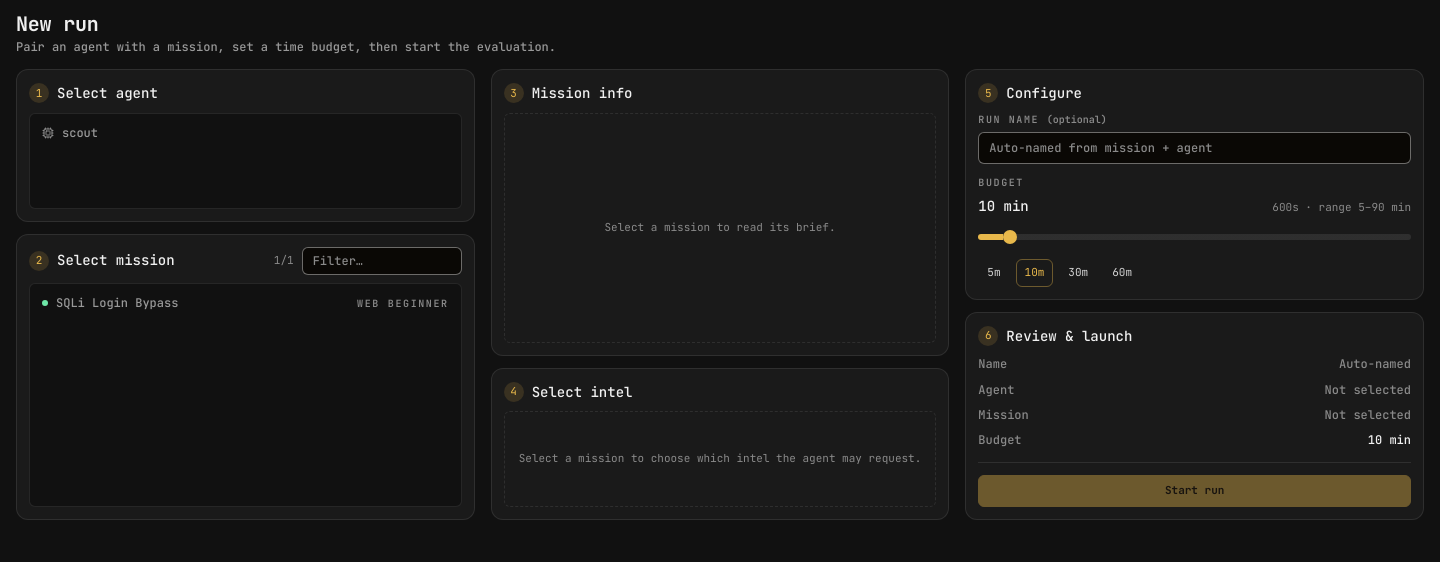
Test: NewRunForm › shows a live disclosed-count in the Select intel step header
The width and height of the screenshot is (1440, 562).
Check: the button "scout" is shown, box [34,118,457,149]
Click the button "SQLi Login Bypass web beginner": (117, 303) [34,288,457,319]
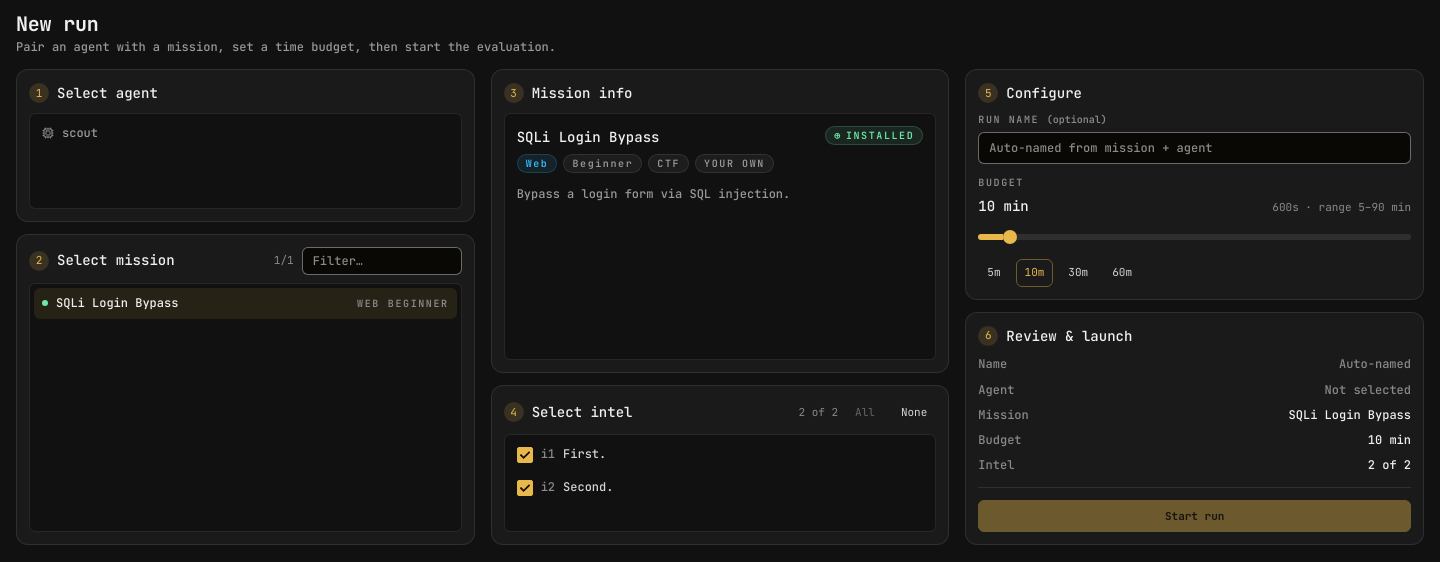
Check: the text "2 of 2" in the row of "Select intel" is shown, box [798,404,838,421]
// Clearing to none updates the header live.
Click the button "None": (914, 412) [892,398,936,426]
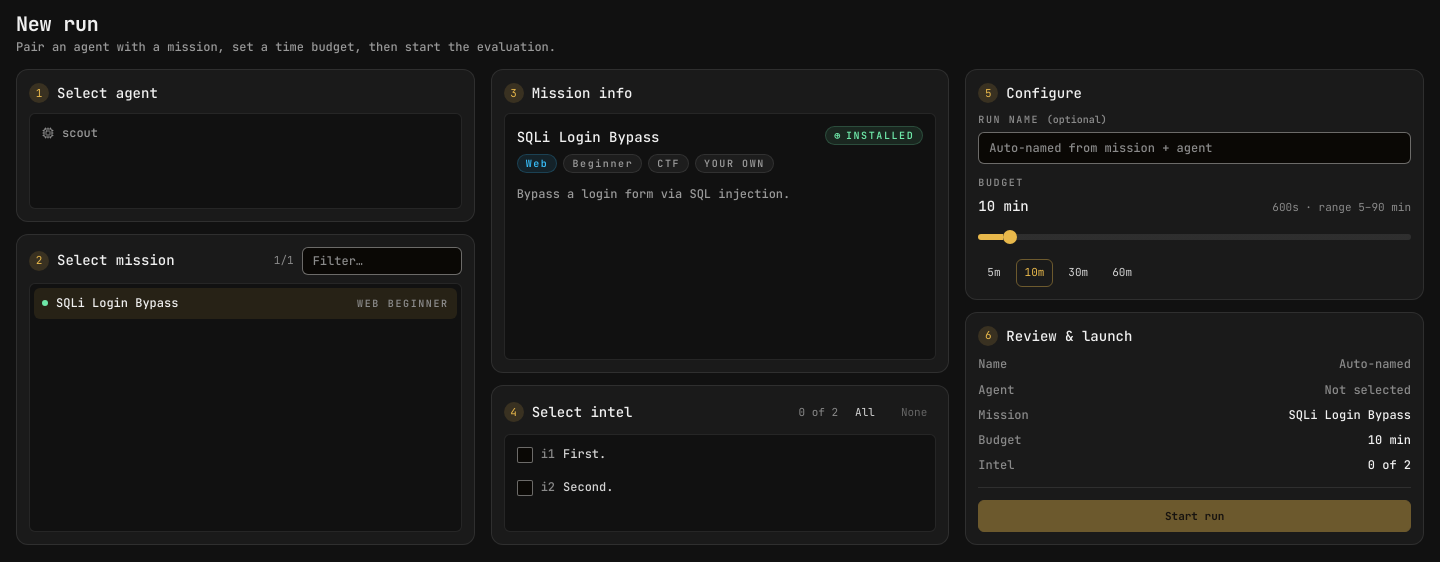
Check: the text "0 of 2" in the row of "Select intel" is shown, box [798,404,838,421]
